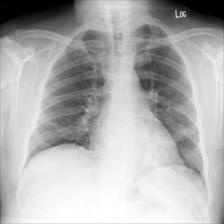normal: (21, 23, 208, 185)
